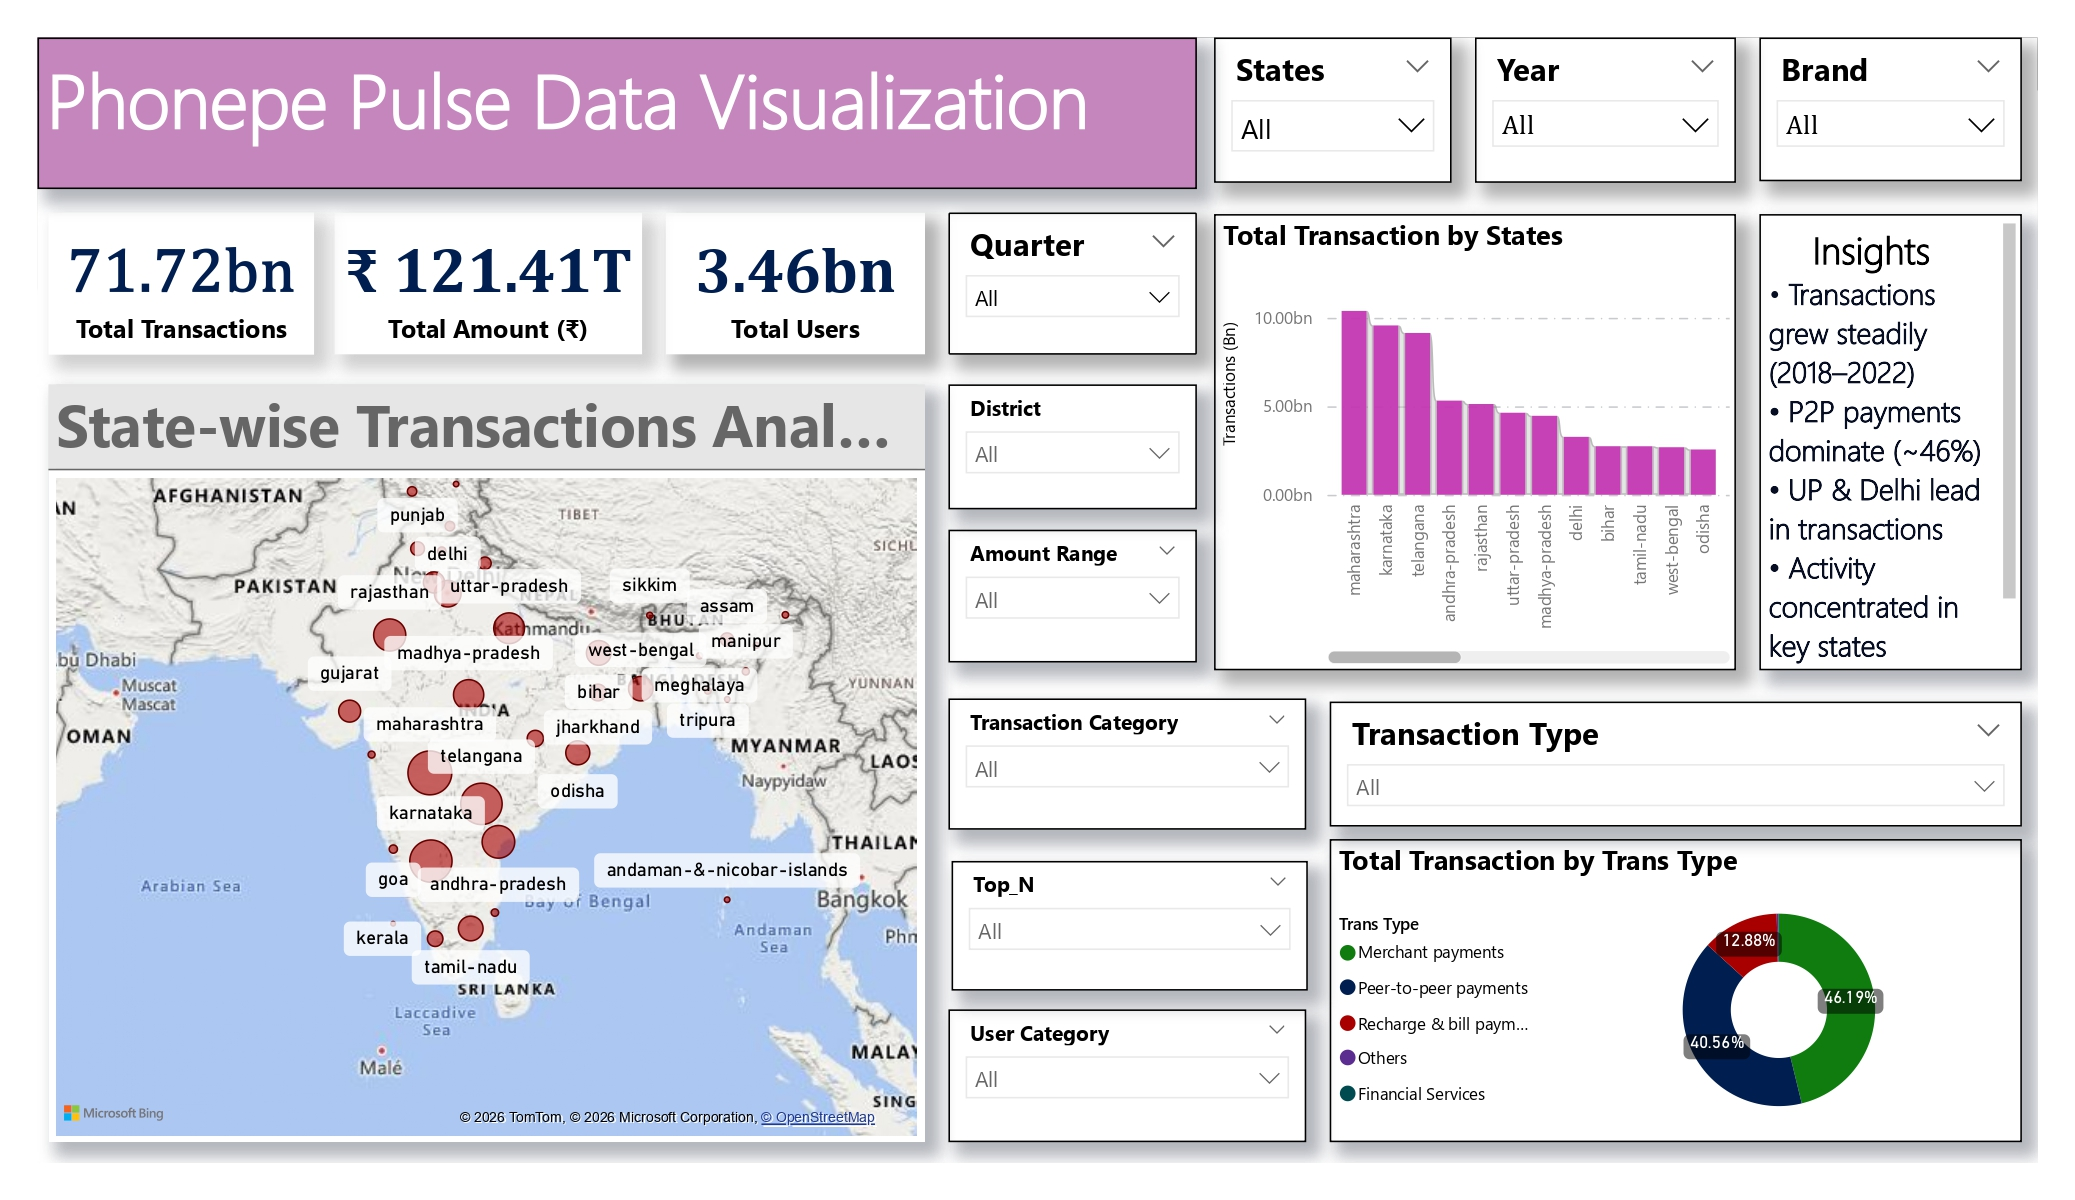

The dashboard page shown, as its layout file describes it:
{"tool":"powerbi","page":{"name":"Page 1","canvas":[1280,720],"ordinal":0},"visuals":[{"type":"map","title":"State-wise Transactions Analysis","fields":{"Category":["map_transaction.states"],"Size":["Sum(map_transaction.trans_counts)"]},"box":[6.7,221.7,561.7,485],"z":0},{"type":"card","title":"Total Transactions","fields":{"Values":["Sum(aggregated_transaction.trans_counts)"]},"box":[6.7,111.7,170,91.7],"z":1000},{"type":"card","title":"Total Amount","fields":{"Values":["Sum(aggregated_transaction.amount)"]},"box":[190,111.7,196.7,91.7],"z":2000},{"type":"card","title":"Total Users","fields":{"Values":["Sum(aggregated_user.user_counts)"]},"box":[401.7,111.7,166.7,91.7],"z":3000},{"type":"slicer","title":"Year","fields":{"Values":["aggregated_transaction.year"]},"box":[920,0,166.7,93.3],"z":4000},{"type":"slicer","fields":{"Values":["aggregated_transaction.quarter"]},"box":[583.3,111.7,158.3,91.7],"z":5000},{"type":"slicer","fields":{"Values":["aggregated_transaction.states"]},"box":[753.3,0,151.7,93.3],"z":6000},{"type":"slicer","fields":{"Values":["aggregated_transaction.trans_type"]},"box":[826.7,425,443.3,80],"z":7000},{"type":"slicer","fields":{"Values":["aggregated_user.brand"]},"box":[1101.7,0,168.3,91.7],"z":8000},{"type":"donutChart","title":"Total Transaction by Trans Type","fields":{"Category":["aggregated_transaction.trans_type"],"Y":["Sum(aggregated_transaction.trans_counts)"]},"box":[826.7,513.3,443.3,193.3],"z":9000},{"type":"textbox","title":"📊 PhonePe Transaction Analysis Dashboard","box":[0,0,741.7,96.7],"z":10000},{"type":"slicer","fields":{"Values":["TopN_Selection.Top_N"]},"box":[585,526.7,228.3,83.3],"z":11000},{"type":"columnChart","title":"Total Transaction by States","fields":{"Category":["aggregated_transaction.states"],"Y":["Sum(aggregated_transaction.trans_counts)"]},"box":[753.3,113.3,333.3,291.7],"z":12000},{"type":"slicer","fields":{"Values":["top_transaction.district"]},"box":[583.3,221.7,158.3,80],"z":13000},{"type":"slicer","fields":{"Values":["aggregated_transaction.Amount Category Measure"]},"box":[583.3,315,158.3,85],"z":14000},{"type":"slicer","fields":{"Values":["aggregated_transaction.Transaction Category"]},"box":[583.3,423.3,228.3,83.3],"z":15000},{"type":"slicer","fields":{"Values":["aggregated_user.User Category"]},"box":[583.3,621.7,228.3,85],"z":16000},{"type":"textbox","box":[1101.7,113.3,168.3,291.7],"z":17000}]}

Visuals, with their boxes in screenshot pixels (x1, y1, x2, y2):
"State-wise Transactions Analysis" map: {"x1": 64, "y1": 374, "x2": 931, "y2": 1122}
"Total Transactions" card: {"x1": 64, "y1": 205, "x2": 327, "y2": 346}
"Total Amount" card: {"x1": 347, "y1": 205, "x2": 650, "y2": 346}
"Total Users" card: {"x1": 673, "y1": 205, "x2": 931, "y2": 346}
"Year" slicer: {"x1": 1473, "y1": 32, "x2": 1730, "y2": 176}
slicer - aggregated_transaction.quarter: {"x1": 953, "y1": 205, "x2": 1198, "y2": 346}
slicer - aggregated_transaction.states: {"x1": 1216, "y1": 32, "x2": 1450, "y2": 176}
slicer - aggregated_transaction.trans_type: {"x1": 1329, "y1": 688, "x2": 2012, "y2": 811}
slicer - aggregated_user.brand: {"x1": 1753, "y1": 32, "x2": 2012, "y2": 174}
"Total Transaction by Trans Type" donutChart: {"x1": 1329, "y1": 824, "x2": 2012, "y2": 1122}
"📊 PhonePe Transaction Analysis Dashboard" textbox: {"x1": 54, "y1": 32, "x2": 1198, "y2": 182}
slicer - TopN_Selection.Top_N: {"x1": 956, "y1": 845, "x2": 1308, "y2": 973}
"Total Transaction by States" columnChart: {"x1": 1216, "y1": 207, "x2": 1730, "y2": 657}
slicer - top_transaction.district: {"x1": 953, "y1": 374, "x2": 1198, "y2": 498}
slicer - aggregated_transaction.Amount Category Measure: {"x1": 953, "y1": 518, "x2": 1198, "y2": 649}
slicer - aggregated_transaction.Transaction Category: {"x1": 953, "y1": 685, "x2": 1306, "y2": 814}
slicer - aggregated_user.User Category: {"x1": 953, "y1": 991, "x2": 1306, "y2": 1122}
textbox: {"x1": 1753, "y1": 207, "x2": 2012, "y2": 657}
